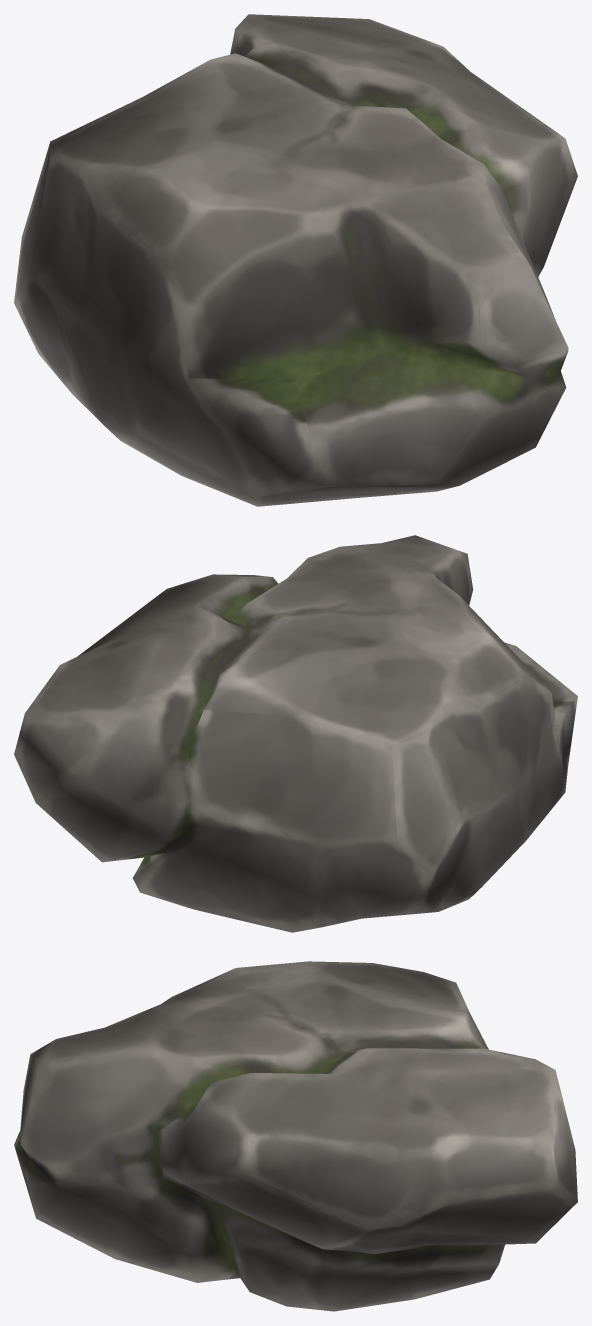
The model's file is Rock_Small.fbx.
3 renders of one model, top to bottom at view 1: azimuth 30°, elevation 25°; view 2: azimuth 150°, elevation 25°; view 3: azimuth 270°, elevation 25°, orthographic. The views are drawn at different scales.
Visible parts, largest first — view 1: Rock_Small; view 2: Rock_Small; view 3: Rock_Small.
Boxes of the visible parts, left/top/right/bottom form: Rock_Small: left=14, top=14, right=577, bottom=506; Rock_Small: left=14, top=535, right=577, bottom=932; Rock_Small: left=14, top=961, right=577, bottom=1311.
Bounding box in the file's own units: 16.07 × 10.36 × 20.16.
